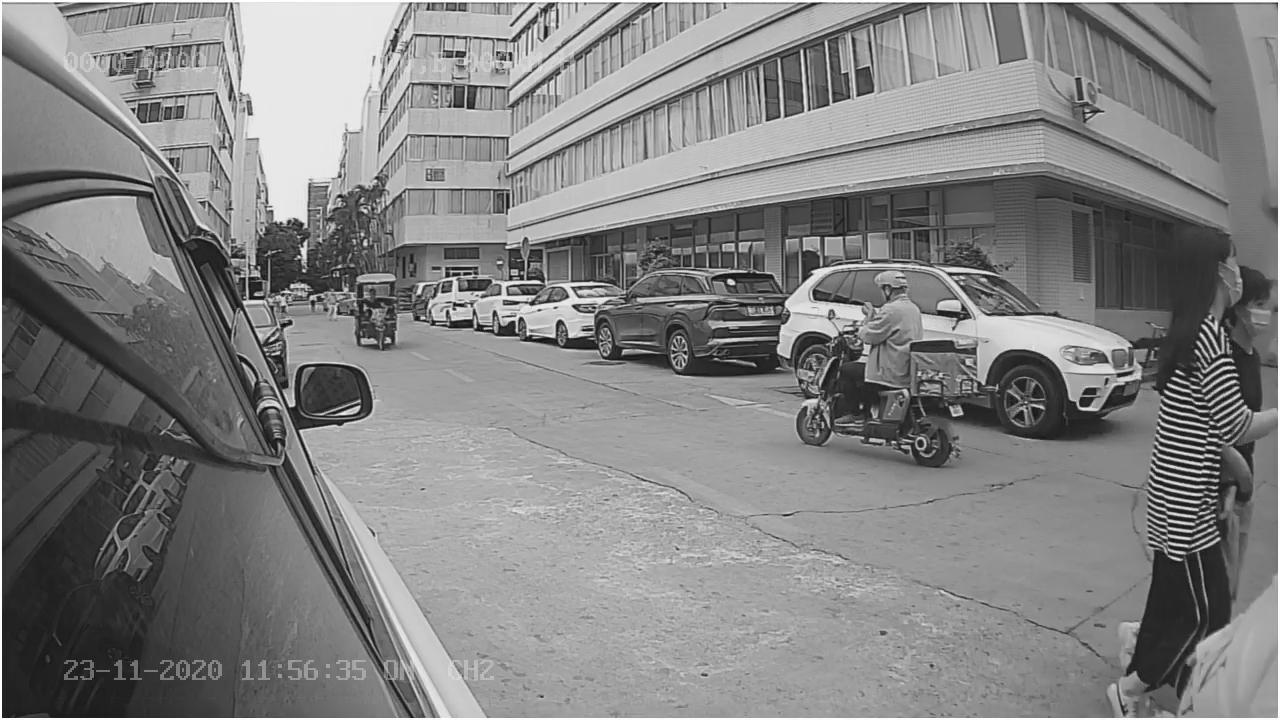person: (1118, 213, 1254, 715), (865, 271, 923, 349)
